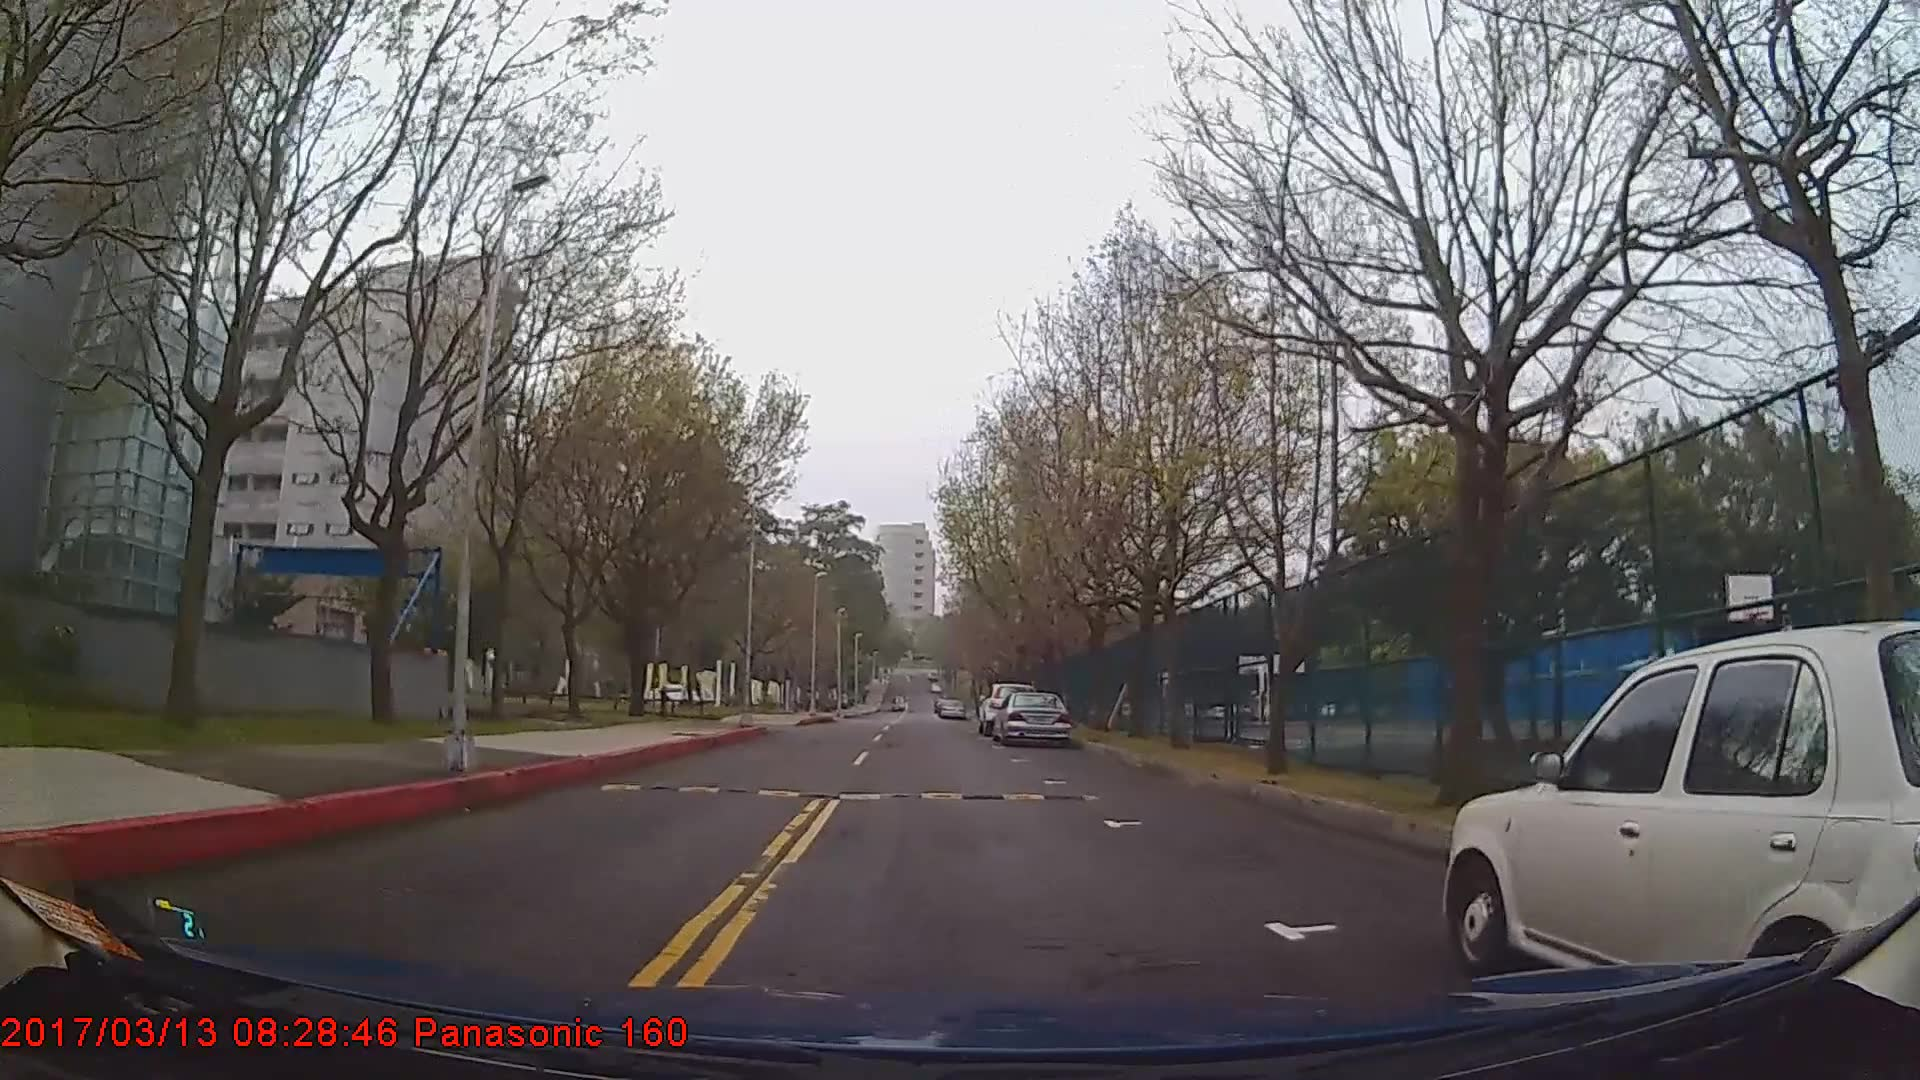vehicle: (1445, 620, 1915, 986), (990, 687, 1071, 742), (935, 695, 968, 721)
